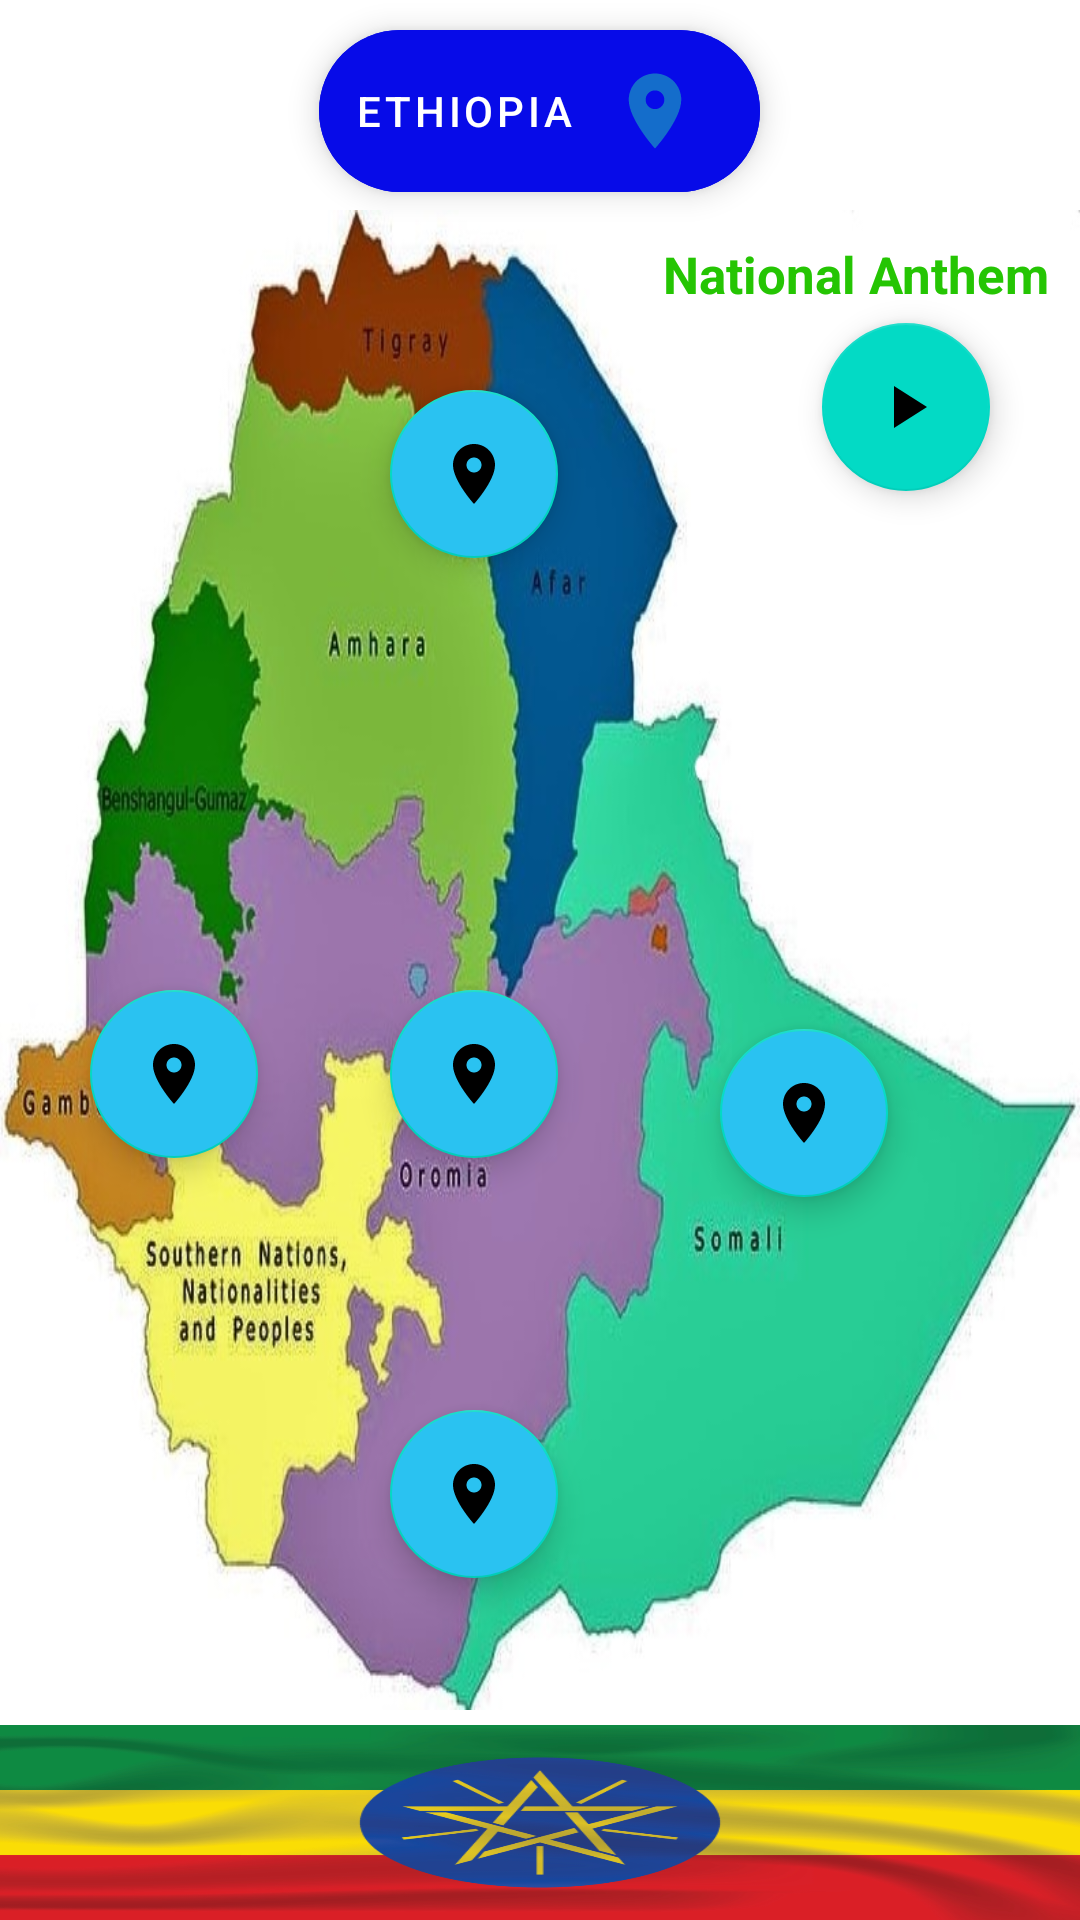

Screen size 1080 × 1920. Icon name, then its center in pixels as (x,y):
location: (474,474), (174,1074), (474,1074), (804,1113), (474,1494)
play: (906,407)
